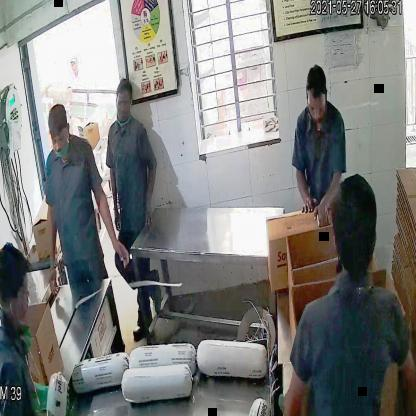no_goggles: (49, 130, 70, 152)
